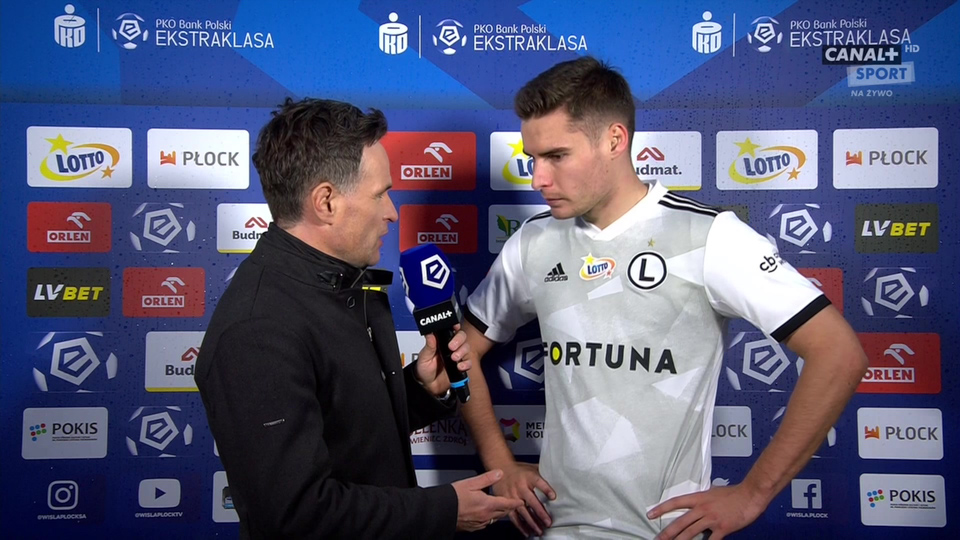Adidas: (543, 262, 568, 283)
